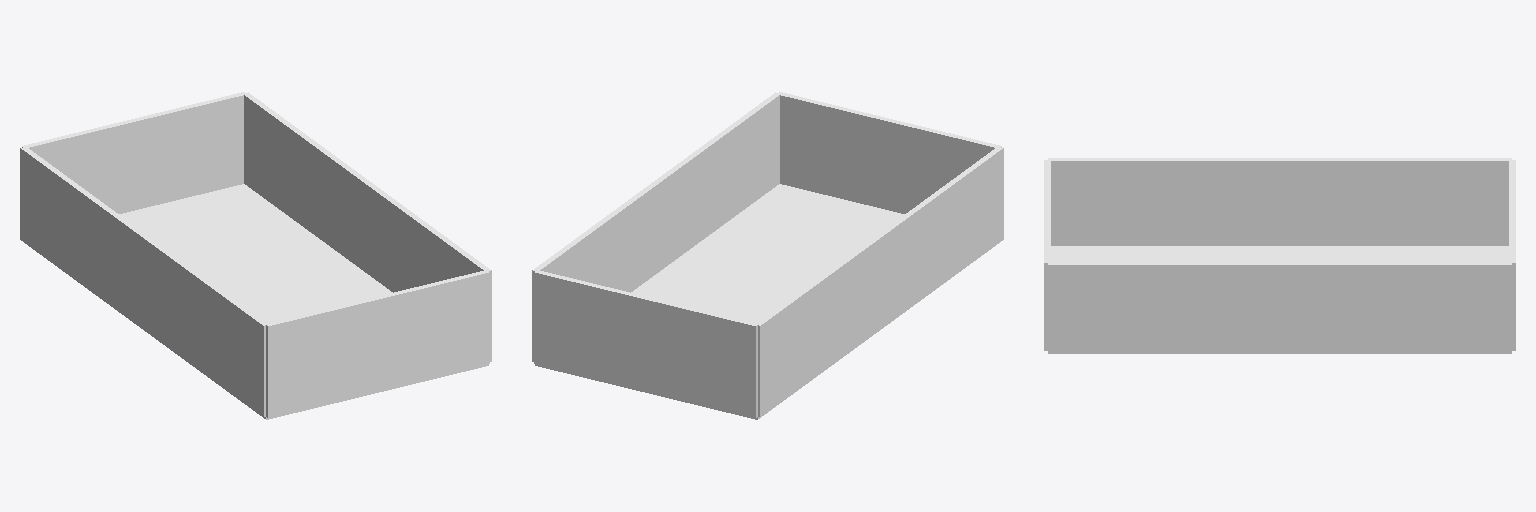
The robot description file, URDF, robot "assortment_crate":
<?xml version="1.0" ?>
<robot name="assortment_crate">
  <!--
  This model is meant to be a container in which other objects can be dumped.
  Origin:
    (0, 0, 0) at the center bottom of the bin.
  -->
  <material name="Box_color">
    <color rgba="1.0 1.0 1.0 1.0"/>
  </material>

  <link name="base">
    <!-- This inertia value is bogus since its inconsequential -->
    <inertial>
      <origin xyz="0 0 0" rpy="0 0 0" />
      <mass value="0.122" />
      <inertia ixx="0.000360" ixy="0" ixz="0" iyy="0.0000615" iyz="0"
          izz="0.00036" />
    </inertial>

    <!-- Front -->
    <visual>
      <origin rpy="0 0 0" xyz="0.19 0 0.075"/>
      <geometry>
        <box size="0.01 0.72 0.15"/>
      </geometry>
      <material name="Box_color"/>
    </visual>
    <collision>
      <origin rpy="0 0 0" xyz="0.19 0 0.075"/>
      <geometry>
        <box size="0.01 0.72 0.15"/>
      </geometry>
    </collision>

    <!-- Back -->
    <visual>
      <origin rpy="0 0 0" xyz="-0.19 0 0.075"/>
      <geometry>
        <box size="0.01 0.72 0.15"/>
      </geometry>
      <material name="Box_color"/>
    </visual>
    <collision>
      <origin rpy="0 0 0" xyz="-0.19 0 0.075"/>
      <geometry>
        <box size="0.01 0.72 0.15"/>
      </geometry>
    </collision>

    <!-- Left -->
    <visual>
      <origin rpy="0 0 0" xyz="0 0.36 0.075"/>
      <geometry>
        <box size="0.38 0.01 0.15"/>
      </geometry>
      <material name="Box_color"/>
    </visual>
    <collision>
      <origin rpy="0 0 0" xyz="0 0.36 0.075"/>
      <geometry>
        <box size="0.38 0.01 0.15"/>
      </geometry>
    </collision>

    <!-- Right -->
    <visual>
      <origin rpy="0 0 0" xyz="0 -0.36 0.075"/>
      <geometry>
        <box size="0.38 0.01 0.15"/>
      </geometry>
      <material name="Box_color"/>
    </visual>
    <collision>
      <origin rpy="0 0 0" xyz="0 -0.36 0.075"/>
      <geometry>
        <box size="0.38 0.01 0.15"/>
      </geometry>
    </collision>

    <!-- bottom -->
    <visual>
      <origin rpy="0 0 0" xyz="0 0 0"/>
      <geometry>
        <box size="0.38 0.72 0.01"/>
      </geometry>
      <material name="Box_color"/>
    </visual>
    <collision>
      <origin rpy="0 0 0" xyz="0 0.0 -0.005"/>
      <geometry>
        <box size="0.38 0.72 0.01"/>
      </geometry>
    </collision>

  </link>
</robot>

--- What the picture shows (computed from the rendered views, not written in the file) ---
3 views of the same robot in one strip: view 1: azimuth 30°, elevation 25°; view 2: azimuth 150°, elevation 25°; view 3: azimuth 270°, elevation 25° (orthographic).
Model assortment_crate with 1 links and 0 joints (none), rooted at base, posed every joint at zero.
Links seen in each view (by area): view 1: base; view 2: base; view 3: base.
Link boxes in pixels (x1,y1,x2,y2): base: [20, 92, 491, 419]; base: [532, 92, 1003, 419]; base: [1044, 158, 1515, 353].
Bounding box of the posed robot: 0.39 × 0.73 × 0.155 m (x, y, z).
Geometry: primitives only (box / cylinder / sphere), no mesh files.